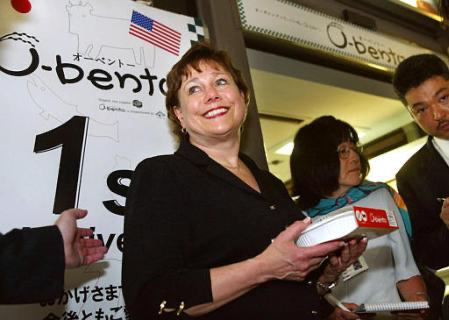Face: (173, 57, 256, 146), (397, 69, 448, 144), (322, 128, 372, 198)
